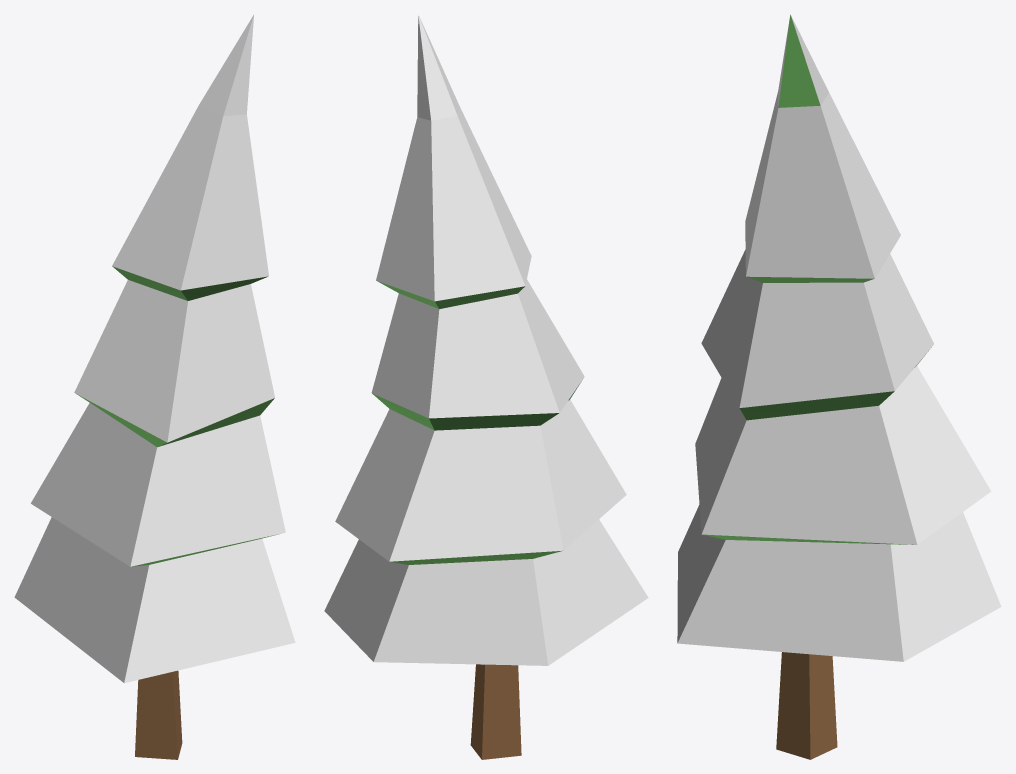
Rendered from Fir_Tree_m_Snow_11.fbx.
The picture shows the model from 3 angles, left to right: view 1: azimuth 30°, elevation 25°; view 2: azimuth 150°, elevation 25°; view 3: azimuth 270°, elevation 25°; orthographic projection. The views are drawn at different scales.
Visible parts, largest first — view 1: Fir_Tree_m_Snow_11; view 2: Fir_Tree_m_Snow_11; view 3: Fir_Tree_m_Snow_11.
Part boxes in pixels (x1=…): Fir_Tree_m_Snow_11: x1=14, y1=15, x2=295, y2=759; Fir_Tree_m_Snow_11: x1=324, y1=15, x2=648, y2=759; Fir_Tree_m_Snow_11: x1=677, y1=14, x2=1001, y2=759.
Bounding box in the file's own units: 147 × 444 × 167.
